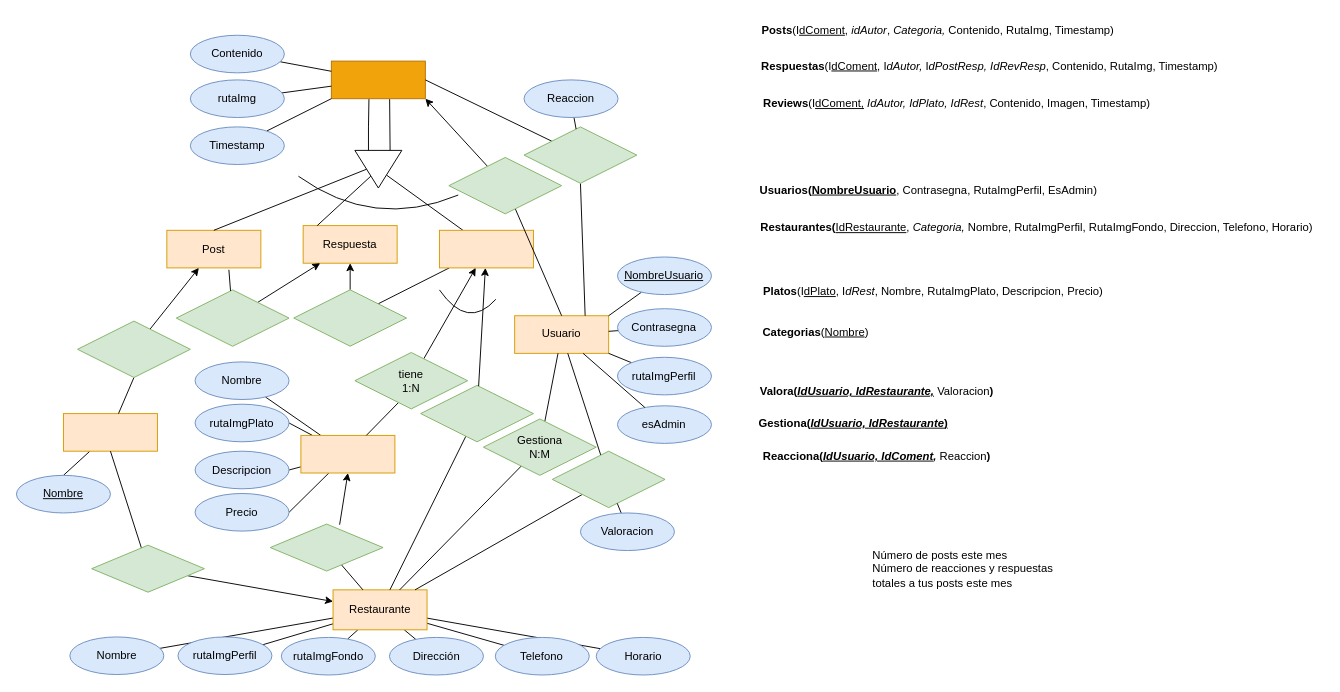
This 1340x692 diagram has some shape labels left out. Here are the shapes that lost their labels. From the top down, the centre of each, then its label:
(x=377, y=79): Comentario
(x=580, y=154): reacciona N:M
(x=505, y=185): esAutor 1:N
(x=486, y=248): Review
(x=232, y=317): respondePost 1:N
(x=350, y=317): respondeRev 1:N
(x=133, y=349): contiene 1:N
(x=110, y=432): Categoría
(x=476, y=413): recibe 1:N
(x=347, y=453): Plato
(x=608, y=479): valora N:M
(x=326, y=547): sirve 1:N
(x=147, y=568): pertenece 1:N
